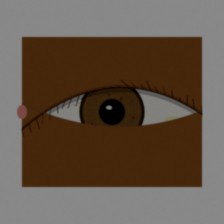pinguecula_lesion: (156, 109, 188, 135)
